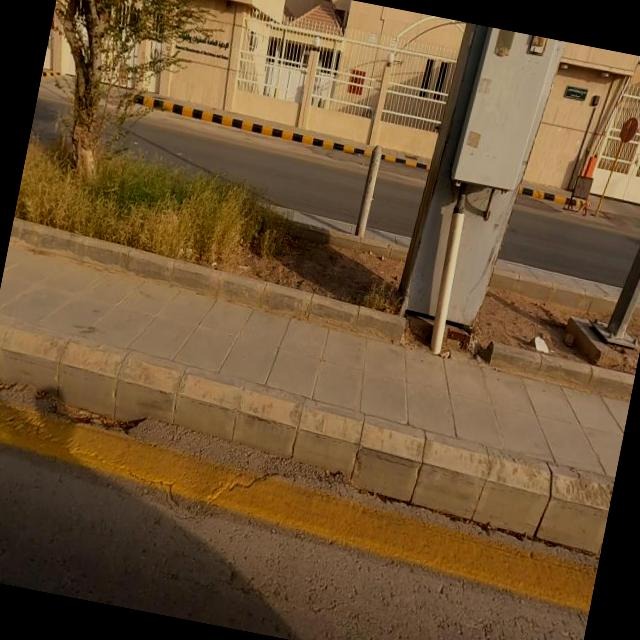debris: (580, 62, 640, 217)
